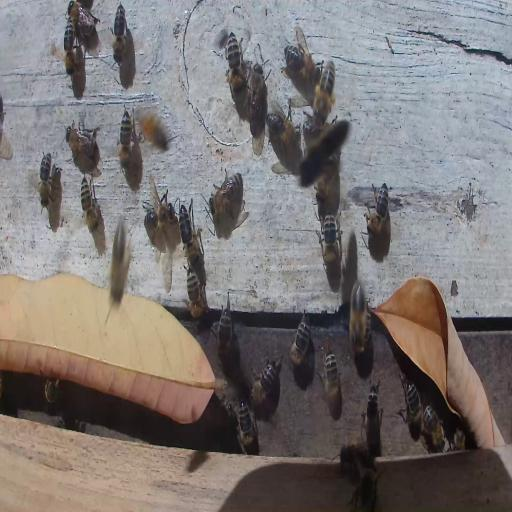bee: (109, 210, 132, 308), (281, 34, 318, 84), (208, 168, 244, 218), (66, 121, 100, 169), (252, 355, 281, 410), (312, 60, 336, 126), (321, 345, 341, 420), (178, 201, 200, 266), (365, 181, 391, 235), (399, 378, 422, 439), (318, 211, 340, 273), (364, 380, 382, 454), (135, 109, 169, 148), (80, 174, 102, 232), (235, 398, 257, 455), (289, 310, 311, 367), (247, 63, 266, 128), (225, 35, 245, 94), (268, 106, 297, 146), (349, 281, 366, 349), (143, 200, 175, 236), (66, 2, 98, 38), (216, 304, 234, 368), (422, 403, 445, 452), (185, 269, 207, 320), (351, 470, 378, 510), (320, 118, 351, 150), (119, 106, 133, 174), (338, 441, 370, 469), (112, 3, 126, 64), (39, 150, 52, 208), (314, 173, 335, 203), (64, 20, 75, 76), (44, 377, 59, 406), (451, 426, 466, 452)
